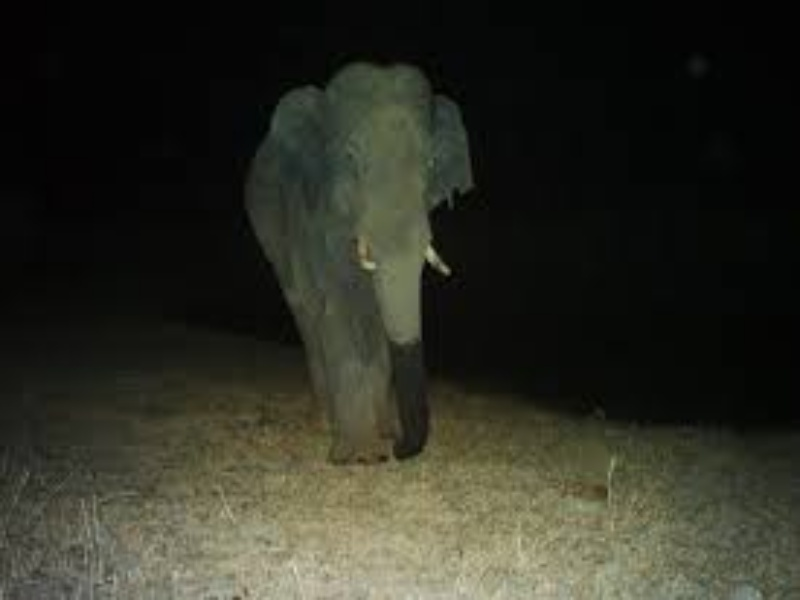elephant: (197, 40, 520, 480)
